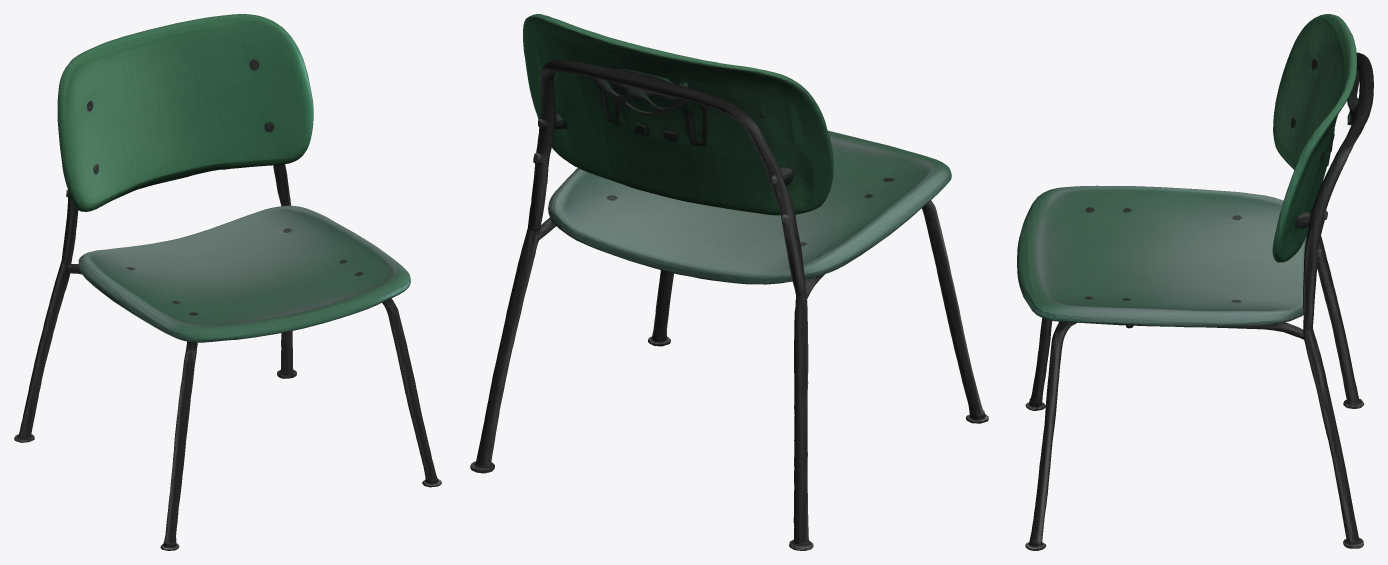
Rendered from Soft_Edge10_Lounge__Hunter_.glb.
3 renders of one model, left to right at view 1: azimuth 30°, elevation 25°; view 2: azimuth 150°, elevation 25°; view 3: azimuth 270°, elevation 25°, orthographic. The views are drawn at different scales.
Parts seen in each view (by area): view 1: world; view 2: world; view 3: world.
Part boxes in pixels (x1,y1,x2,y2): world: (14, 14, 441, 550); world: (470, 14, 988, 550); world: (1017, 14, 1373, 550).
Size of the model in its own units: 0.7701 by 0.9998 by 0.7762.
Materials: 1 (1 with a texture image).
